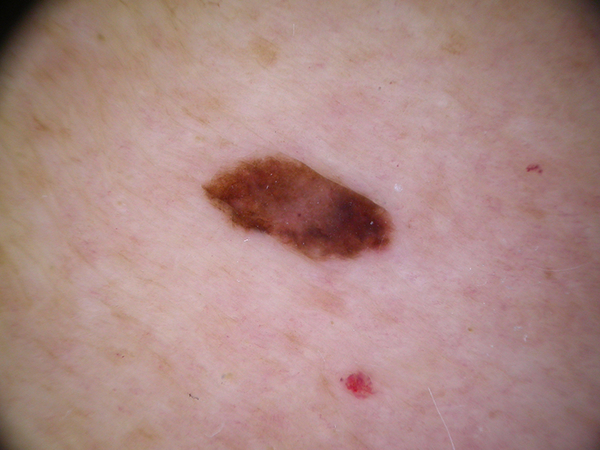Detected Lesion: (197, 149, 402, 265)
